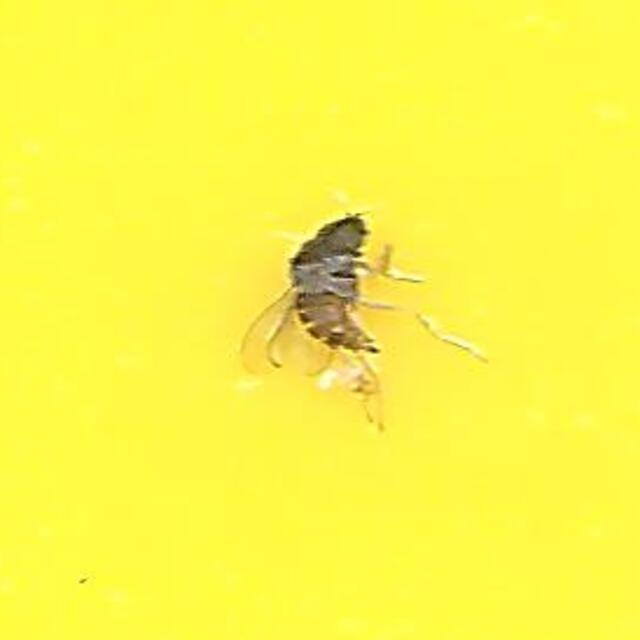Brachycera: (234, 203, 406, 437)
